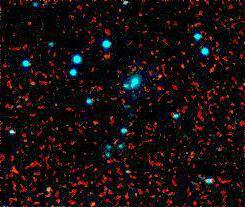star: (86, 188, 116, 207)
